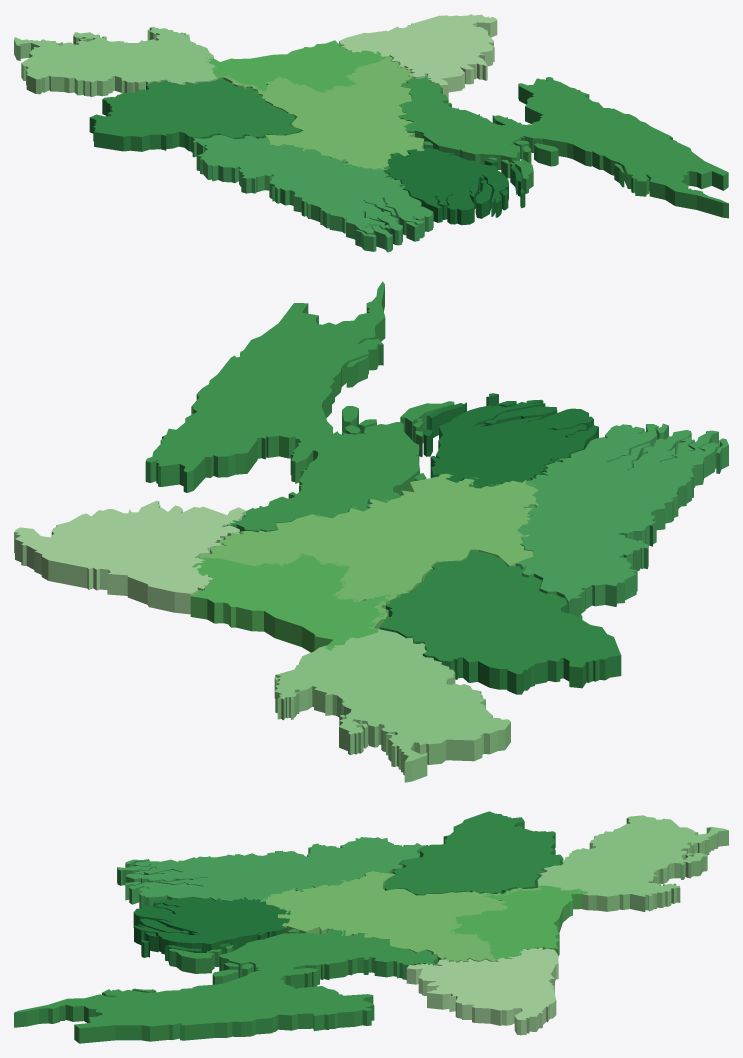
Rendered from divisions.glb.
3 renders of one model, top to bottom at view 1: azimuth 30°, elevation 25°; view 2: azimuth 150°, elevation 25°; view 3: azimuth 270°, elevation 25°, orthographic. The views are drawn at different scales.
Parts seen in each view (by area): view 1: Chittagong, Khulna, Dhaka, Rajshahi, Rangpur, Sylhet, Barisal, Mymensingh; view 2: Chittagong, Khulna, Dhaka, Rajshahi, Rangpur, Sylhet, Mymensingh, Barisal; view 3: Chittagong, Dhaka, Khulna, Rangpur, Rajshahi, Sylhet, Barisal, Mymensingh.
Boxes of the visible parts, x1,y1,x2,y2 form: Chittagong: [398, 75, 728, 218]; Khulna: [191, 134, 433, 252]; Dhaka: [221, 56, 424, 170]; Rajshahi: [89, 78, 301, 151]; Rangpur: [14, 26, 218, 96]; Sylhet: [339, 14, 497, 99]; Barisal: [383, 147, 525, 225]; Mymensingh: [205, 40, 390, 92]; Chittagong: [145, 281, 454, 532]; Khulna: [515, 423, 728, 616]; Dhaka: [199, 473, 538, 629]; Rajshahi: [379, 551, 621, 694]; Rangpur: [274, 629, 510, 782]; Sylhet: [14, 500, 246, 614]; Mymensingh: [190, 553, 390, 652]; Barisal: [423, 393, 598, 488]; Chittagong: [14, 928, 437, 1043]; Dhaka: [260, 871, 540, 962]; Khulna: [117, 837, 427, 908]; Rangpur: [537, 815, 728, 911]; Rajshahi: [384, 811, 563, 895]; Sylhet: [406, 948, 558, 1035]; Barisal: [133, 897, 291, 962]; Mymensingh: [451, 885, 587, 961].
Bounding box in the file's own units: 16.25 × 0.5303 × 22.61.
